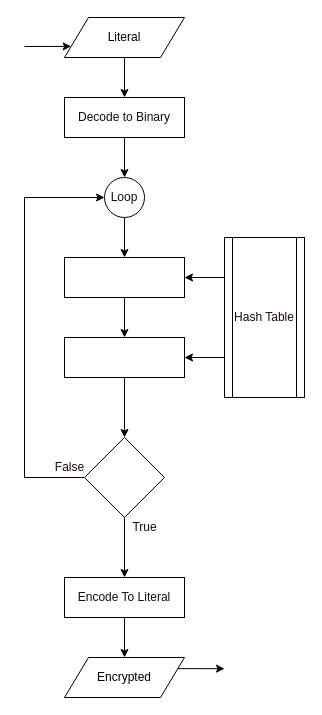
The diagram is 322 pixels wide and 715 high, and some of its shapes have lost their labels. The shapes that lost their labels are listed below. From the top down, each one's centre as x and y in pixels, then its label:
At point (124, 277): "Table's Index".
At point (124, 357): "Table's Adjacent Value".
At point (124, 477): "Stages >= 700".
